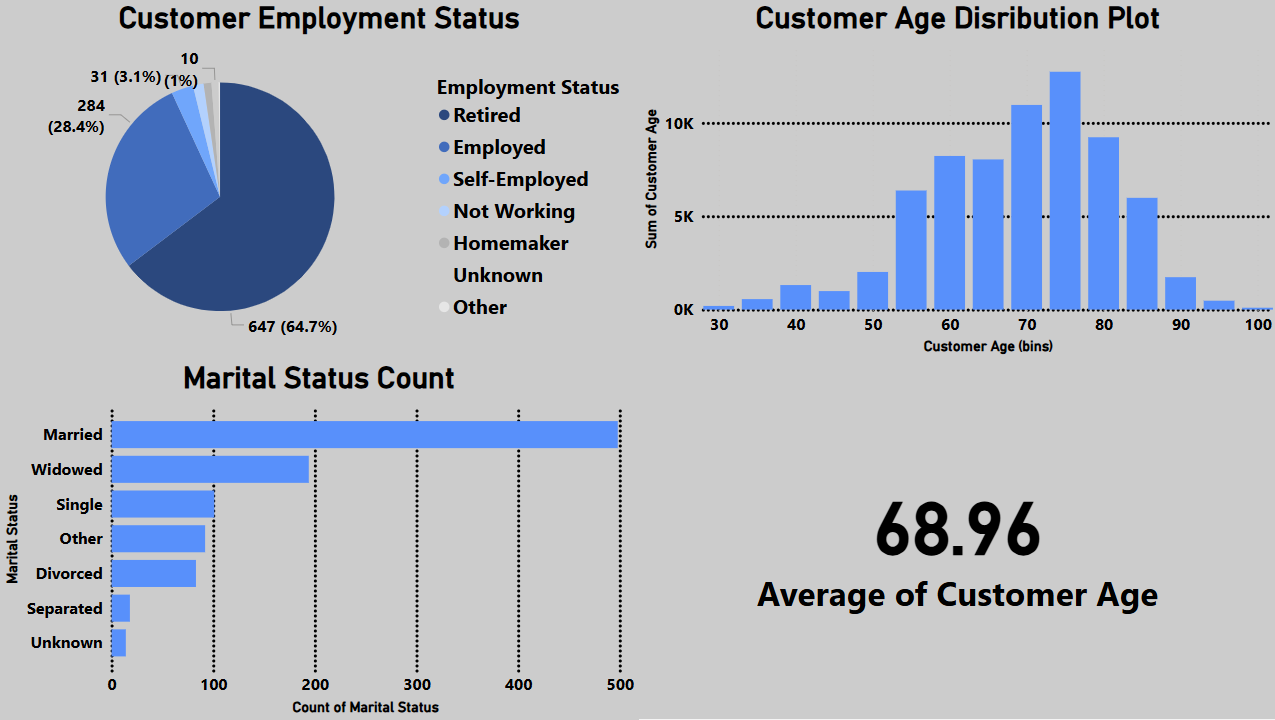

The page's visual inventory and layout, read from the dashboard file:
{"tool":"powerbi","page":{"name":"CUSTOMER PROFILE OVERVIEW","canvas":[1280,720],"ordinal":0},"visuals":[{"type":"pieChart","title":"Customer Employment Status","fields":{"Category":["sql_cleaned_home_insurance.Employment Status"],"Series":["sql_cleaned_home_insurance.Employment Status"],"Y":["CountNonNull(sql_cleaned_home_insurance.Employment Status)"]},"box":[0,0,640.5,359.7],"z":0},{"type":"clusteredColumnChart","title":"Customer Age Disribution Plot","fields":{"Y":["Sum(sql_cleaned_home_insurance.Customer Age)"],"Category":["sql_cleaned_home_insurance.Customer Age (bins)"]},"box":[638.8,0,640.5,359.7],"z":1000},{"type":"barChart","title":"Marital Status Count","fields":{"Category":["sql_cleaned_home_insurance.Marital Status"],"Y":["CountNonNull(sql_cleaned_home_insurance.Marital Status)"]},"box":[0,360,640,360],"z":2000},{"type":"card","title":"Property Type Count","fields":{"Values":["Avg(sql_cleaned_home_insurance.Customer Age)"]},"box":[639.3,359.5,640.5,359.5],"z":3000}]}

Visuals, with their boxes in screenshot pixels (x1, y1, x2, y2), scaled from the page's 1280x720 canvas onto the 1275x720 screenshot:
"Customer Employment Status" pieChart: 0:0:638:360
"Customer Age Disribution Plot" clusteredColumnChart: 636:0:1274:360
"Marital Status Count" barChart: 0:360:638:719
"Property Type Count" card: 637:360:1274:719
